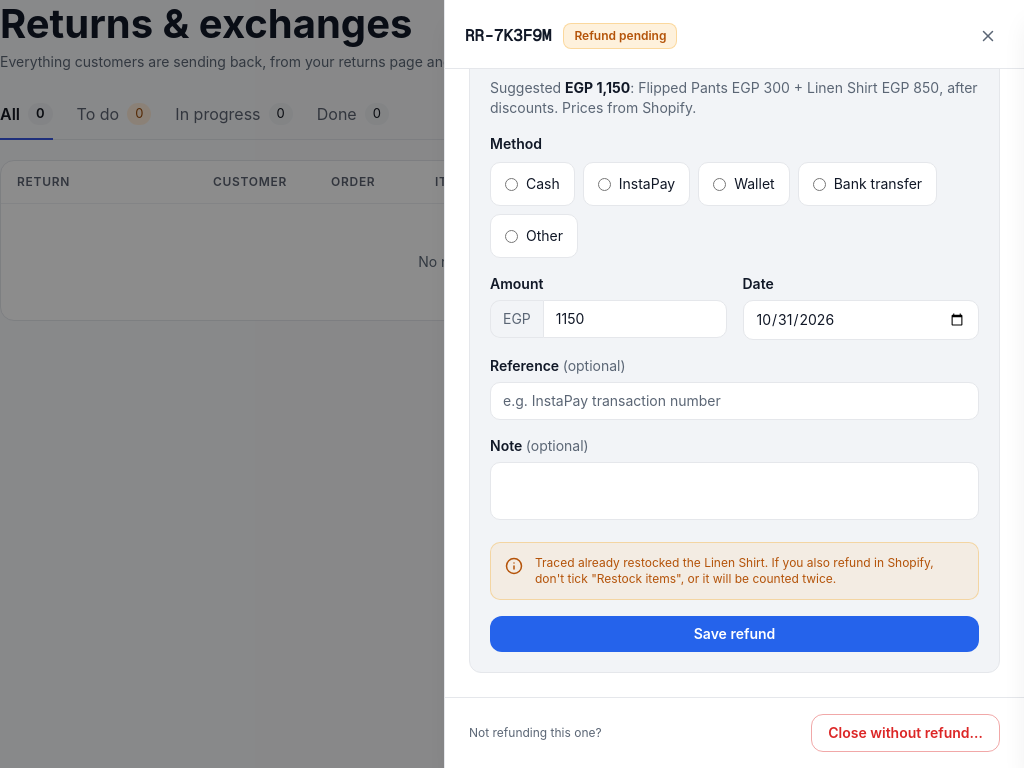
Test: R1 — record the refund › method is required; saving posts method, amount, date and reference
(page scrolled)
Expected: the element with test id "return-request-drawer-body" is shown, [445,69,1023,697]
Expected: the field labelled "Amount" holds "1150", [543,300,726,338]
Click the button "Save refund": (734, 634) [490,616,979,652]
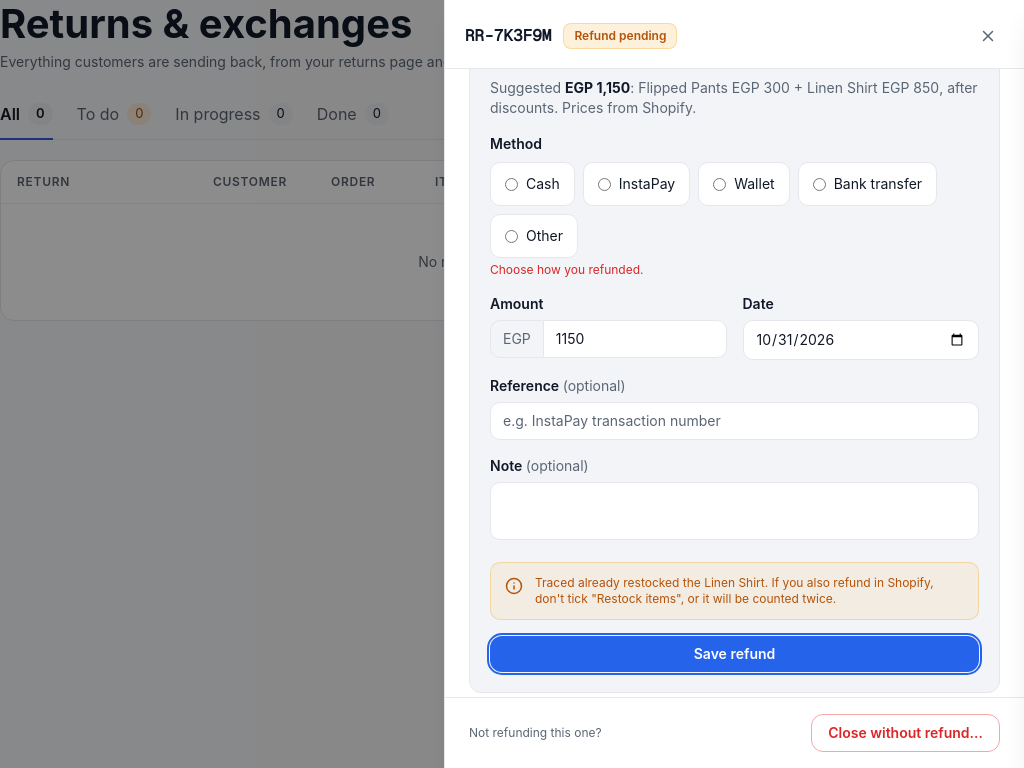
Expected: the message reads "Choose how you refunded.", [490,262,644,277]
Click the radio button labelled "InstaPay": (604, 184) [598,178,611,190]
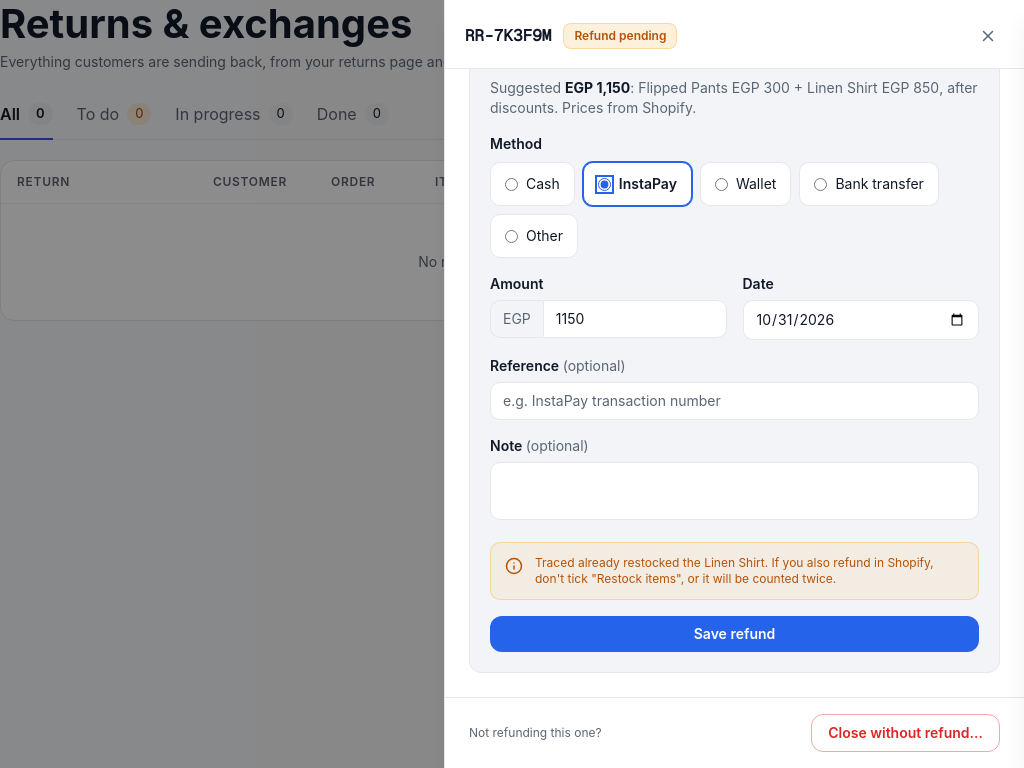
In the field labelled "Reference (optional)": (734, 401) [490,382,979,420], type "88431207"
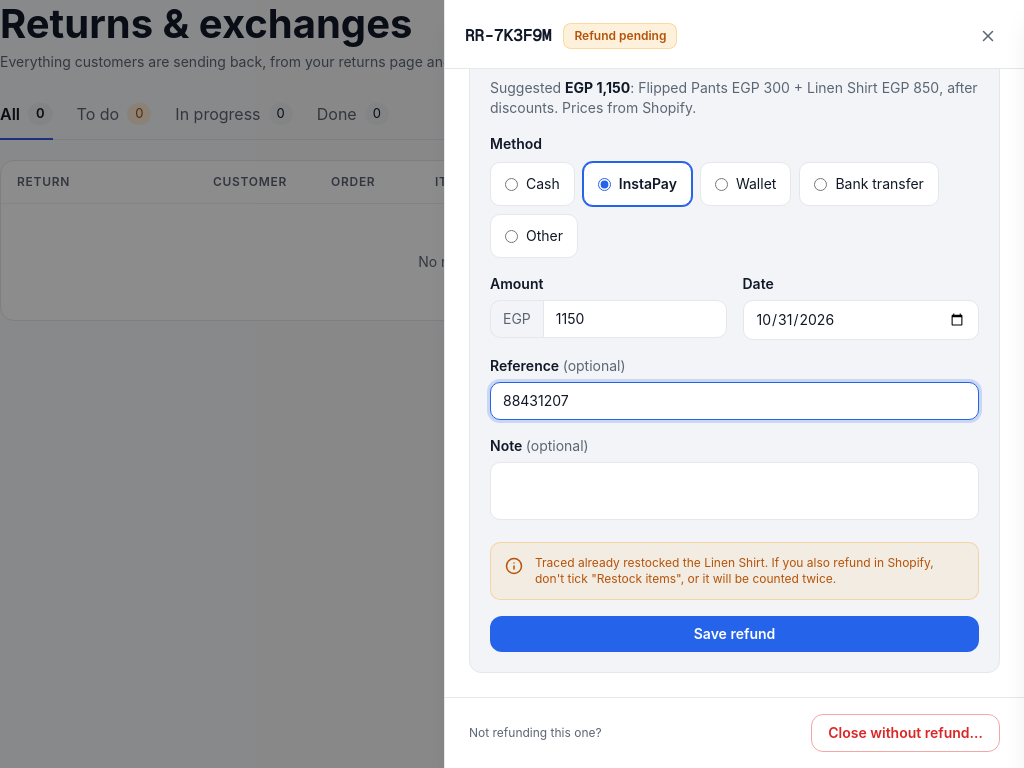
Click the button "Save refund": (734, 634) [490,616,979,652]
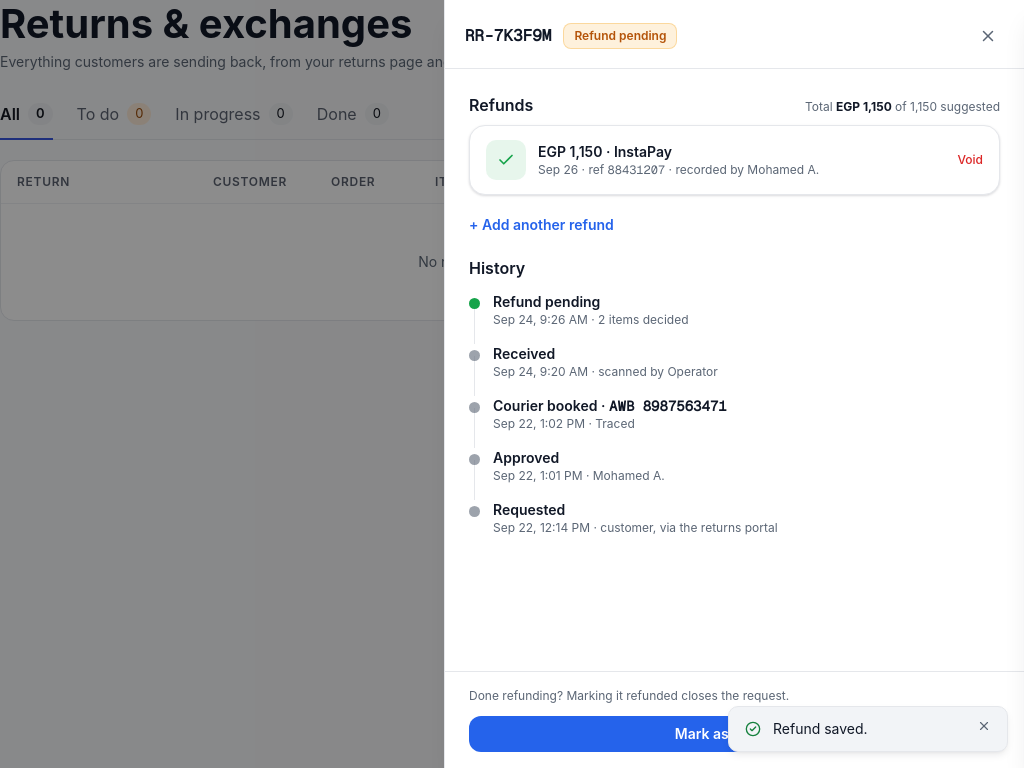
Expected: the element with test id "refunds-list" is shown, [469,93,1000,195]
